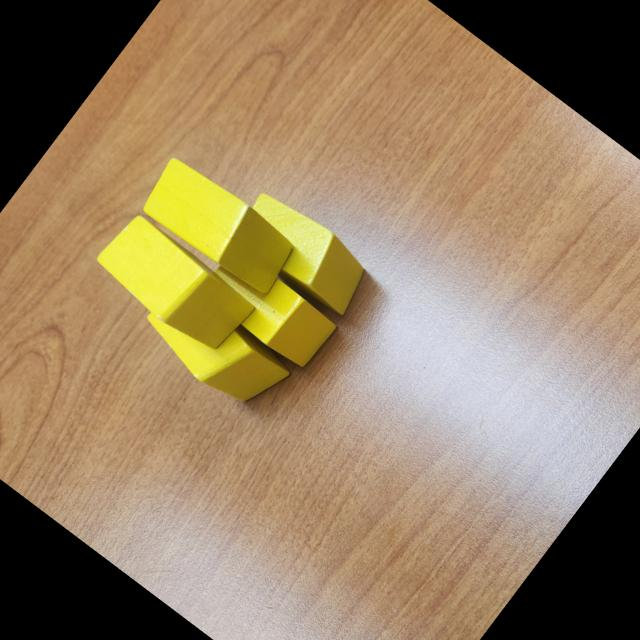yellow: (88, 208, 260, 362), (134, 150, 304, 303), (134, 278, 296, 426), (226, 182, 380, 322), (194, 242, 340, 374)
